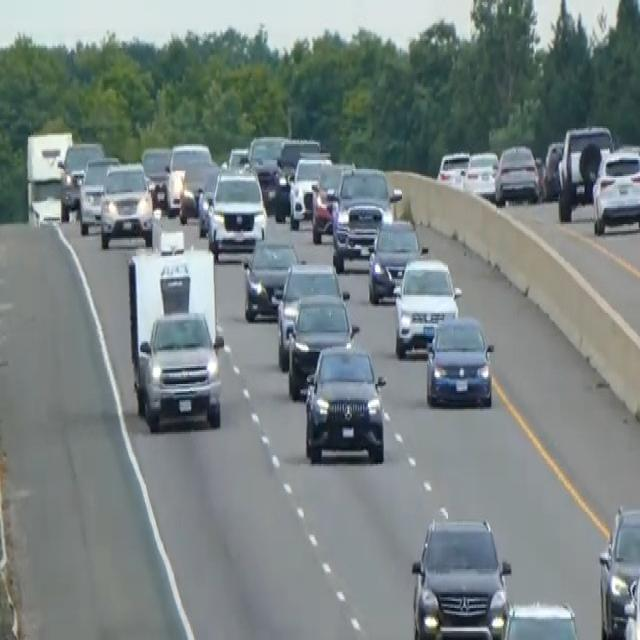car: (410, 510, 511, 638), (275, 260, 349, 368), (286, 290, 359, 398), (330, 164, 400, 270), (392, 255, 462, 358), (424, 313, 495, 409), (597, 502, 639, 638), (206, 167, 267, 258), (557, 122, 614, 218), (367, 217, 427, 304), (242, 236, 299, 322), (99, 160, 155, 247), (591, 146, 639, 234), (310, 160, 355, 244), (57, 138, 104, 218), (287, 150, 332, 228), (165, 140, 211, 213), (77, 155, 119, 233), (498, 599, 580, 638), (494, 143, 540, 205), (177, 158, 213, 224), (277, 135, 320, 183), (140, 144, 172, 208), (247, 132, 287, 182), (196, 162, 222, 234), (463, 149, 498, 199), (541, 139, 564, 199), (623, 560, 639, 638), (436, 149, 469, 185), (225, 144, 250, 172)
jeep: (301, 340, 388, 466)
lorry: (24, 126, 73, 226)
truck: (126, 244, 224, 430)
